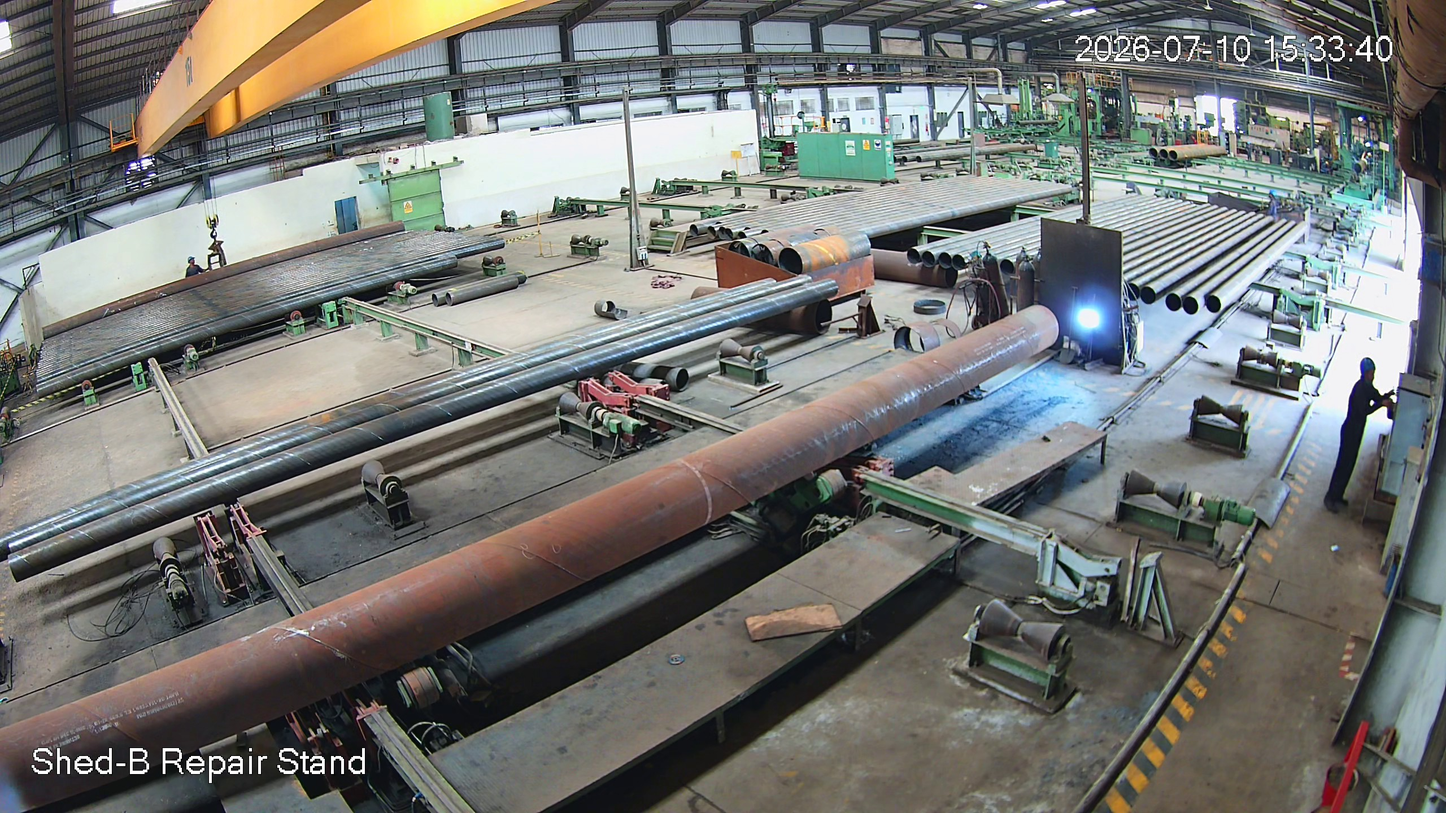Helmet: (1341, 345, 1387, 404)
Person: (1316, 358, 1385, 519)
